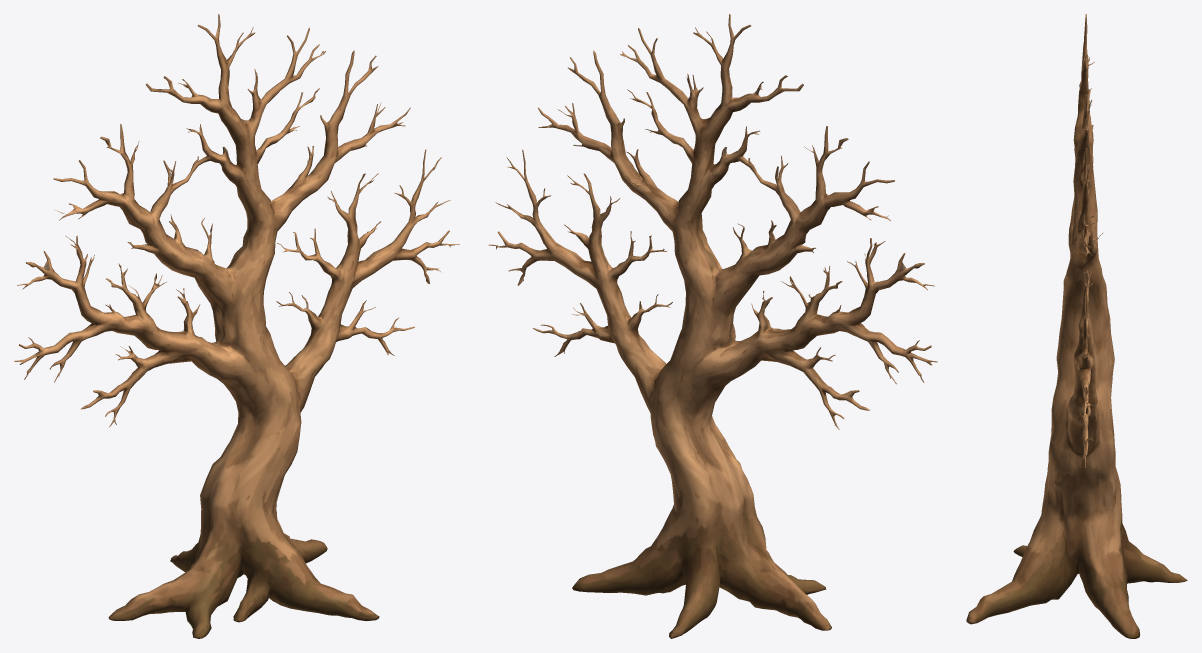
File: Meshy_AI_Twisted_Oak_1019091539_texture.fbx
3 renders of one model, left to right at view 1: azimuth 30°, elevation 25°; view 2: azimuth 150°, elevation 25°; view 3: azimuth 270°, elevation 25°, orthographic. The views are drawn at different scales.
Parts seen in each view (by area): view 1: Mesh_0; view 2: Mesh_0; view 3: Mesh_0.
Boxes of the visible parts, x1=… form: Mesh_0: x1=14, y1=14, x2=459, y2=638; Mesh_0: x1=488, y1=14, x2=937, y2=638; Mesh_0: x1=966, y1=14, x2=1187, y2=638.
Size of the model in its own units: 76.07 by 95.17 by 34.13.
1 material, 1 textured.
